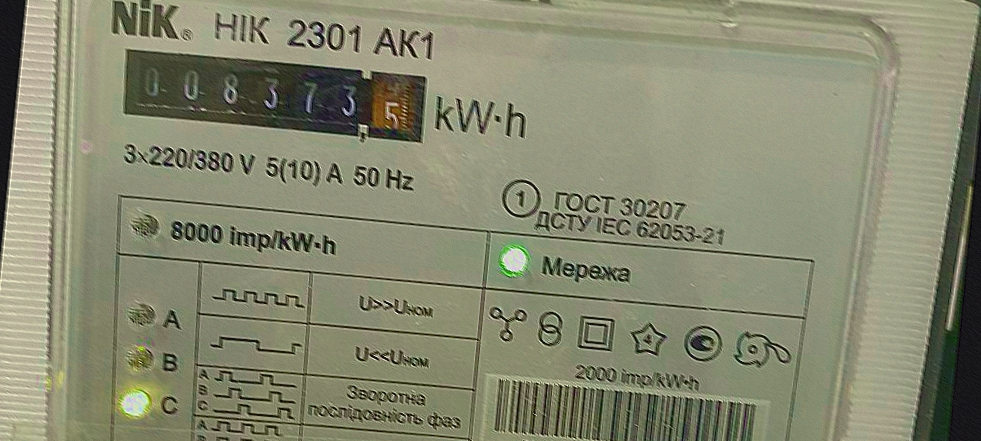0: (141, 62, 165, 100), (181, 65, 204, 103)
3: (337, 81, 363, 120), (260, 73, 284, 112)
4: (384, 77, 404, 99)
5: (382, 98, 404, 130)
7: (299, 76, 321, 117)
8: (220, 69, 244, 107)
screen: (114, 39, 438, 157)
